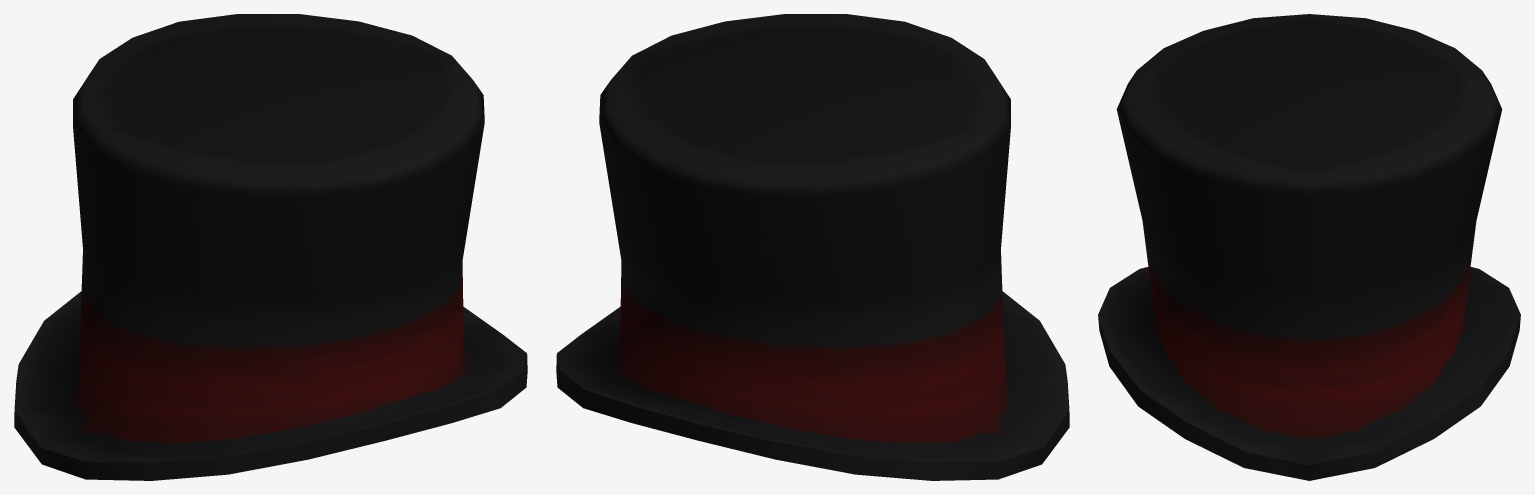
The model's file is Magicians Hat.fbx.
3 renders of one model, left to right at view 1: azimuth 30°, elevation 25°; view 2: azimuth 150°, elevation 25°; view 3: azimuth 270°, elevation 25°, orthographic. The views are drawn at different scales.
Parts seen in each view (by area): view 1: MagicianHat; view 2: MagicianHat; view 3: MagicianHat.
Part boxes in pixels (x1=…): MagicianHat: x1=14, y1=14, x2=527, y2=480; MagicianHat: x1=556, y1=14, x2=1069, y2=480; MagicianHat: x1=1098, y1=14, x2=1520, y2=480.
Bounding box in the file's own units: 12.2 × 8.05 × 10.51.
